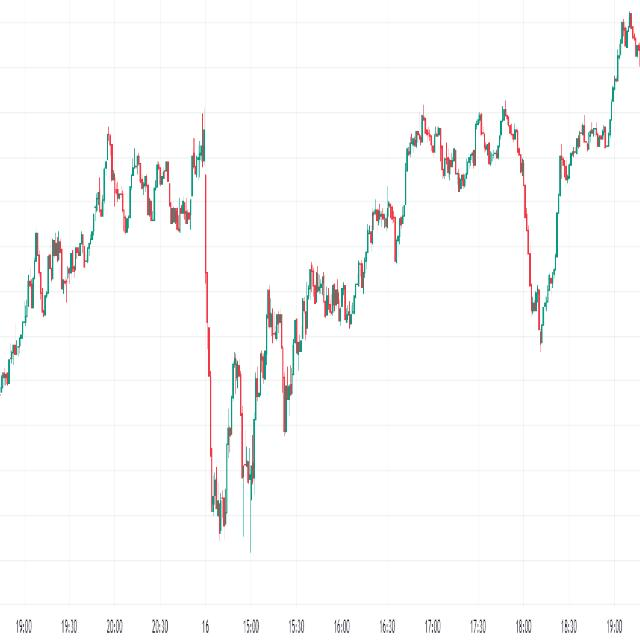Inverse-Head-Shoulders: (521, 198, 564, 354)
